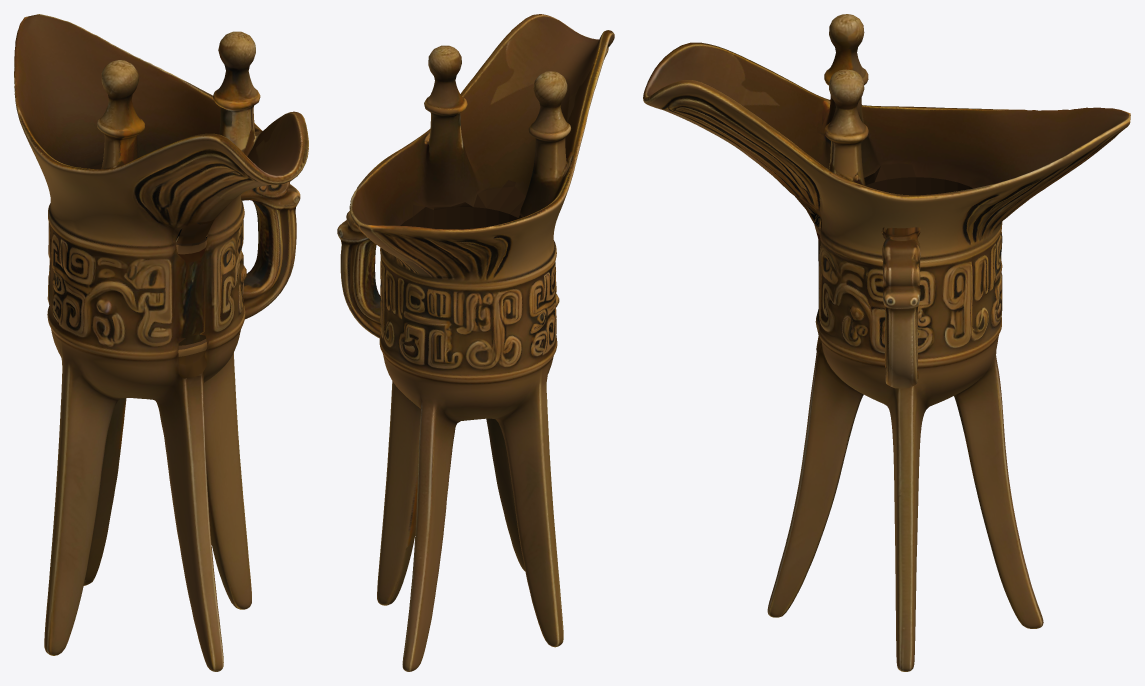
The model's file is Jue-cup.fbx.
3 views of the same model, side by side, from view 1: azimuth 30°, elevation 25°; view 2: azimuth 150°, elevation 25°; view 3: azimuth 270°, elevation 25° (orthographic). The views are drawn at different scales.
Parts seen in each view (by area): view 1: tripo_node_843485a1.006; view 2: tripo_node_843485a1.006; view 3: tripo_node_843485a1.006.
Boxes of the visible parts, <box> form: tripo_node_843485a1.006: <box>14,14,308,671</box>; tripo_node_843485a1.006: <box>337,14,614,671</box>; tripo_node_843485a1.006: <box>643,14,1130,671</box>.
Size of the model in its own units: 42.46 by 99.98 by 75.6.
1 material, 1 textured.
